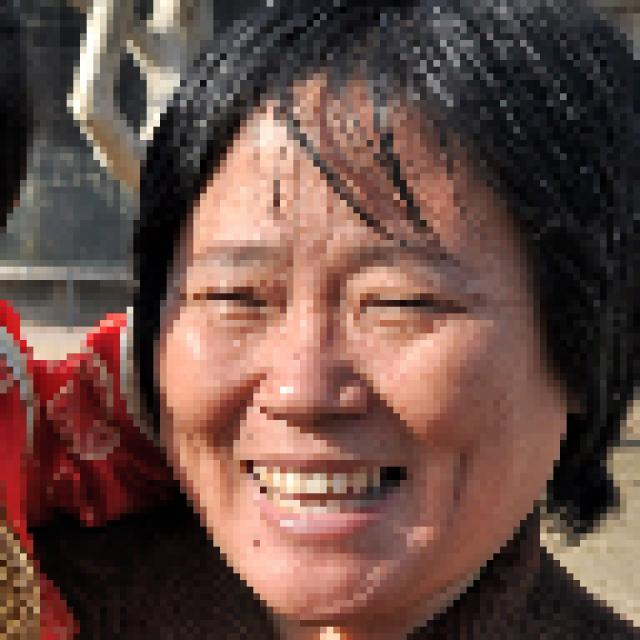happy: (112, 32, 621, 640)
